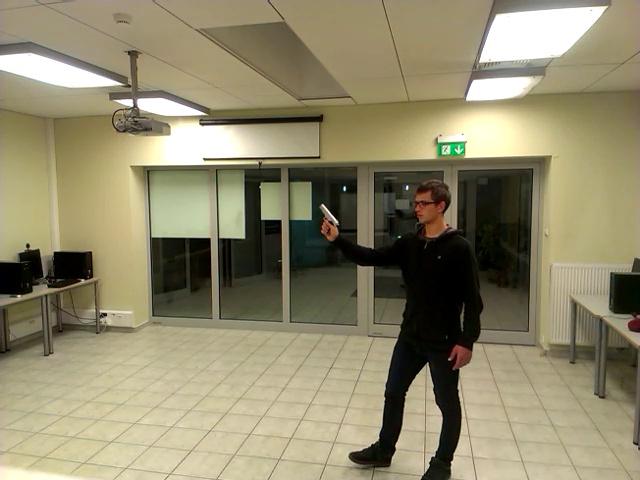gun: (312, 186, 348, 254)
